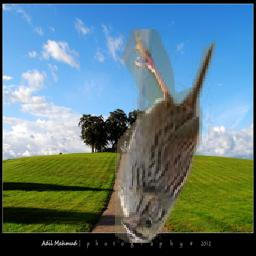Sparrow: (116, 29, 219, 243)
